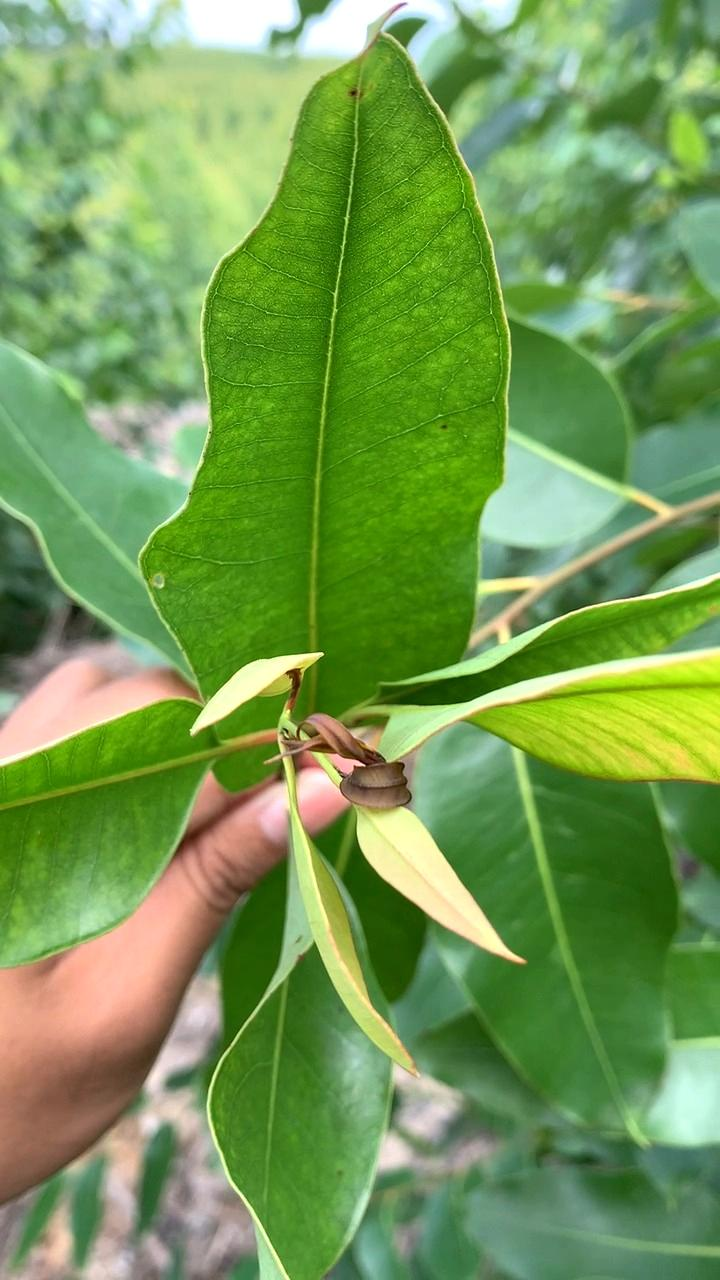Helopeltis-Withered Sprout: (306, 709, 405, 810)
